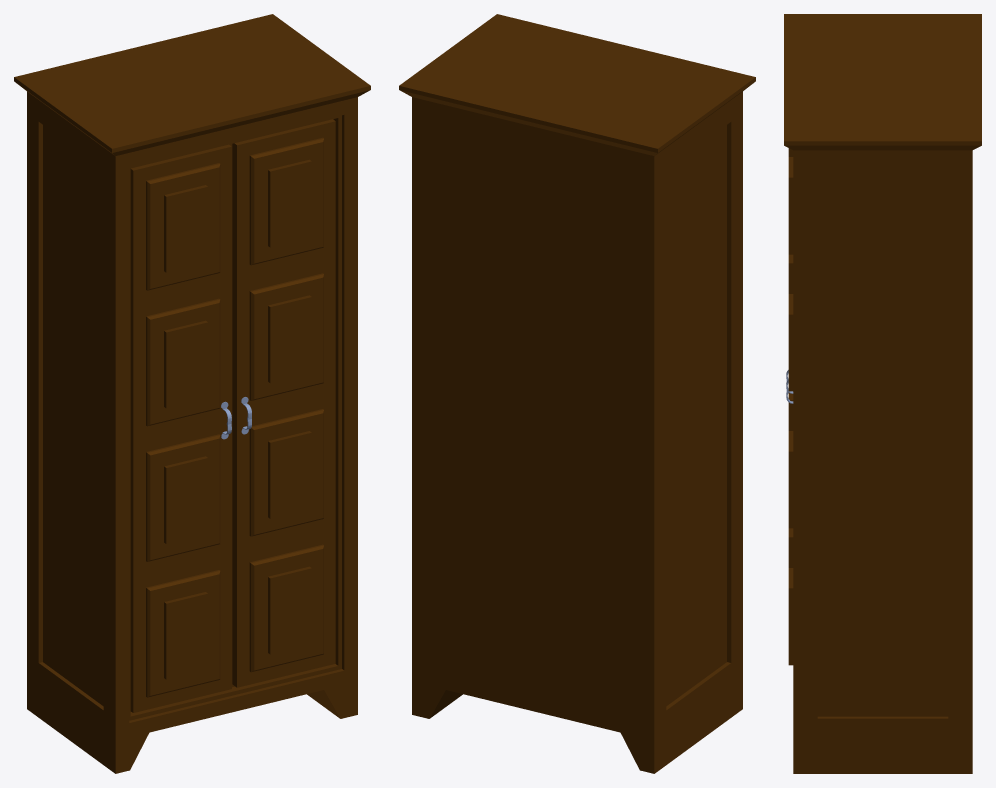
The model's file is 1788215508233_armario.glb.
3 renders of one model, left to right at view 1: azimuth 30°, elevation 25°; view 2: azimuth 150°, elevation 25°; view 3: azimuth 270°, elevation 25°, orthographic.
Parts seen in each view (by area): view 1: g_Layer0_001; view 2: g_Layer0_001; view 3: g_Layer0_001.
Part boxes in pixels (bbox=[...]): g_Layer0_001: bbox=[14, 14, 370, 773]; g_Layer0_001: bbox=[399, 14, 755, 773]; g_Layer0_001: bbox=[784, 14, 981, 773].
Bounding box in the file's own units: 1.53 × 3.56 × 1.
Materials: 3 (3 with a texture image).
